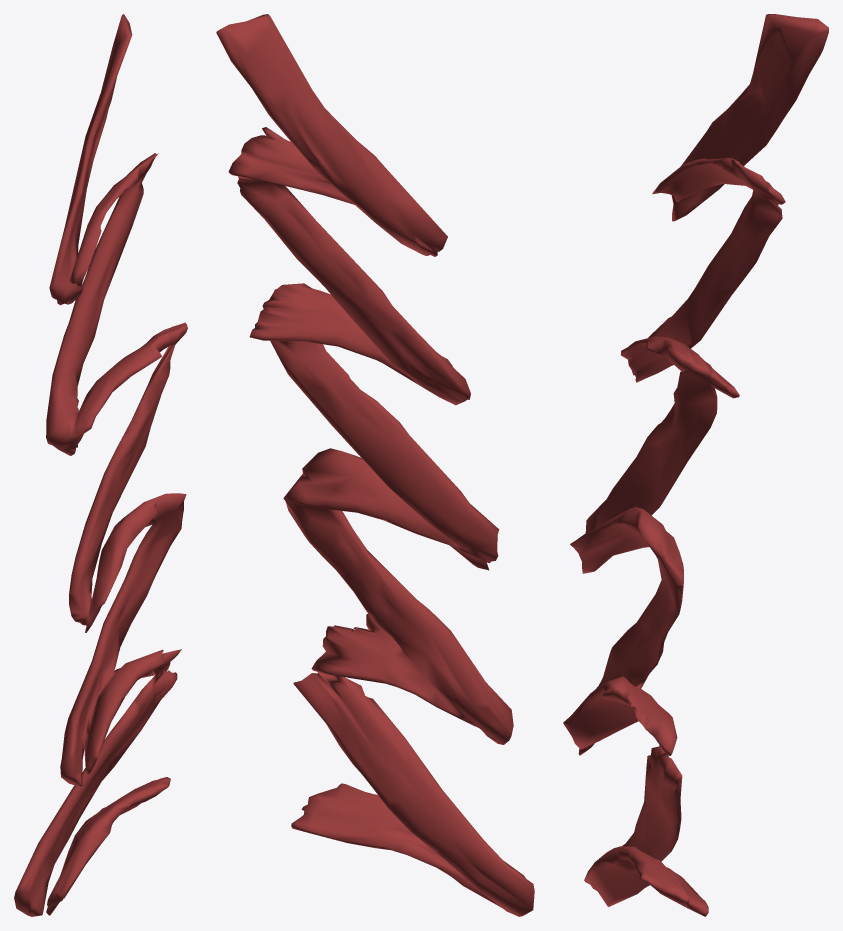
Rendered from multifidus-lumborum-muscle-r.glb.
3 views of the same model, side by side, from view 1: azimuth 30°, elevation 25°; view 2: azimuth 150°, elevation 25°; view 3: azimuth 270°, elevation 25° (orthographic). The views are drawn at different scales.
Visible parts, largest first — view 1: Multifidus lumborum muscle.r; view 2: Multifidus lumborum muscle.r; view 3: Multifidus lumborum muscle.r.
Part boxes in pixels (<box>): Multifidus lumborum muscle.r: <box>14,14,187,916</box>; Multifidus lumborum muscle.r: <box>216,14,534,916</box>; Multifidus lumborum muscle.r: <box>563,14,828,916</box>.
Bounding box in the file's own units: 0.0426 × 0.1615 × 0.0396.
